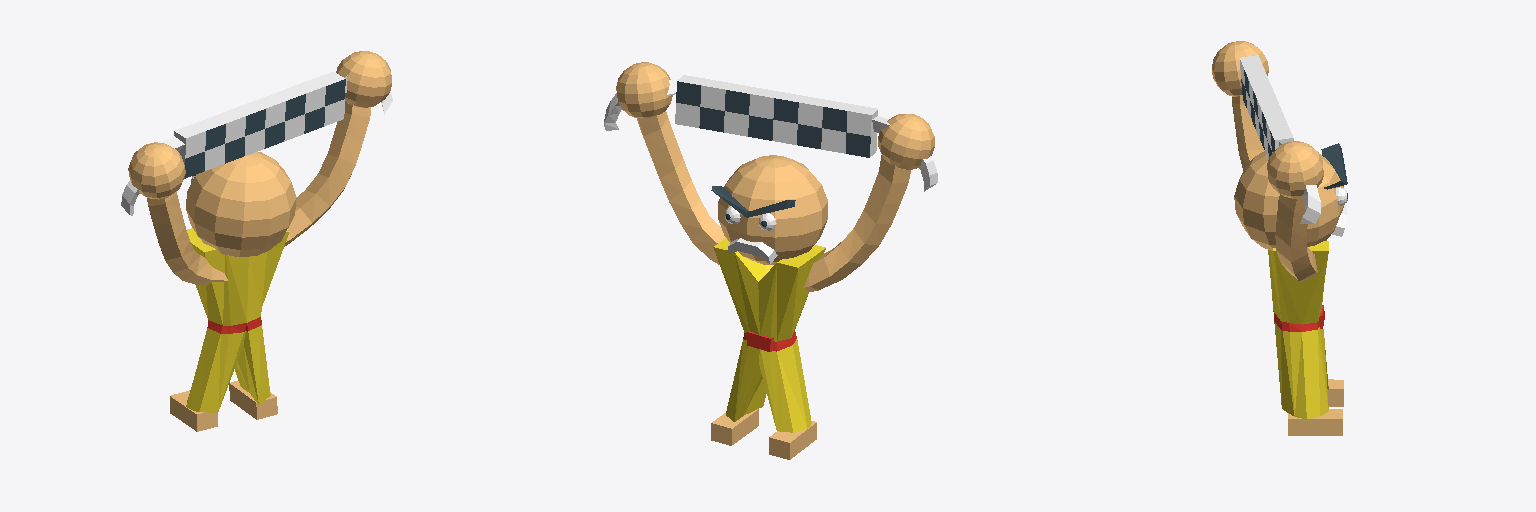
The model's file is model-triangulated.obj.
3 renders of one model, left to right at view 1: azimuth 30°, elevation 25°; view 2: azimuth 150°, elevation 25°; view 3: azimuth 270°, elevation 25°, orthographic.
Visible parts, largest first — view 1: group[number redacted], group[number redacted], group[number redacted], group[number redacted], group[number redacted], group[number redacted], group[number redacted], group[number redacted], group[number redacted], group[number redacted]; view 2: group[number redacted], group[number redacted], group[number redacted], group[number redacted], group[number redacted], group[number redacted], group[number redacted], group[number redacted], group[number redacted], group[number redacted], group[number redacted], group[number redacted] (+1 smaller); view 3: group[number redacted], group[number redacted], group[number redacted], group[number redacted], group[number redacted], group[number redacted], group[number redacted], group[number redacted], group[number redacted], group[number redacted].
Boxes of the visible parts, box(x1,y1,x2,y2) form: group[number redacted]: box(186, 228, 289, 412); group[number redacted]: box(186, 152, 296, 257); group[number redacted]: box(174, 71, 345, 178); group[number redacted]: box(284, 101, 370, 246); group[number redacted]: box(147, 191, 227, 285); group[number redacted]: box(128, 142, 185, 199); group[number redacted]: box(336, 51, 391, 107); group[number redacted]: box(170, 390, 217, 431); group[number redacted]: box(229, 381, 277, 419); group[number redacted]: box(121, 136, 184, 215); group[number redacted]: box(713, 238, 825, 432); group[number redacted]: box(675, 75, 877, 157); group[number redacted]: box(718, 155, 827, 264); group[number redacted]: box(804, 155, 910, 291); group[number redacted]: box(637, 111, 725, 264); group[number redacted]: box(616, 62, 672, 118); group[number redacted]: box(878, 114, 934, 169); group[number redacted]: box(711, 409, 758, 445); group[number redacted]: box(769, 421, 816, 459); group[number redacted]: box(711, 186, 795, 217); group[number redacted]: box(728, 238, 777, 263); group[number redacted]: box(872, 116, 937, 191); group[number redacted]: box(1268, 240, 1328, 418); group[number redacted]: box(1234, 151, 1344, 250); group[number redacted]: box(1240, 55, 1293, 159); group[number redacted]: box(1267, 141, 1323, 198); group[number redacted]: box(1275, 194, 1317, 282); group[number redacted]: box(1212, 41, 1268, 96); group[number redacted]: box(1232, 95, 1264, 170); group[number redacted]: box(1288, 409, 1342, 435); group[number redacted]: box(1279, 142, 1320, 223); group[number redacted]: box(1321, 143, 1347, 189).
Size of the model in its own units: 1.42 by 1.54 by 0.5686.